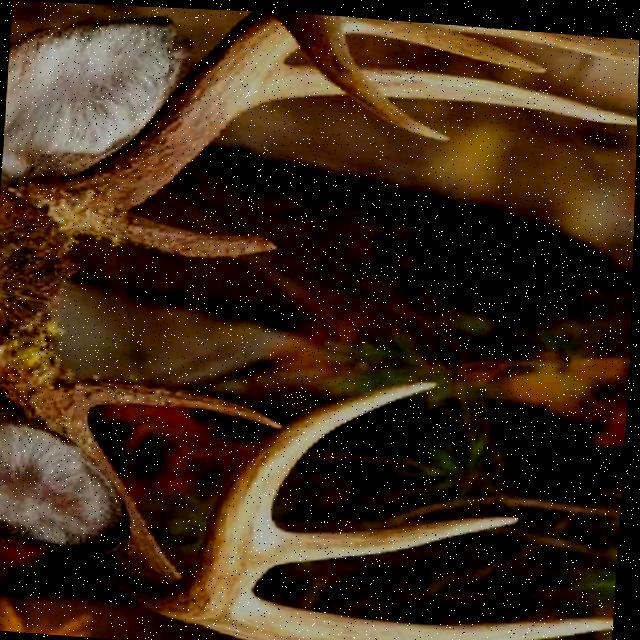L-F: (0, 313, 440, 620)
L-G1: (72, 372, 285, 425)
L-G3: (209, 590, 617, 640)
L-G4: (269, 511, 522, 566)
R-F: (9, 9, 451, 239)
R-G1: (83, 205, 281, 257)
R-G4: (333, 12, 545, 68)
